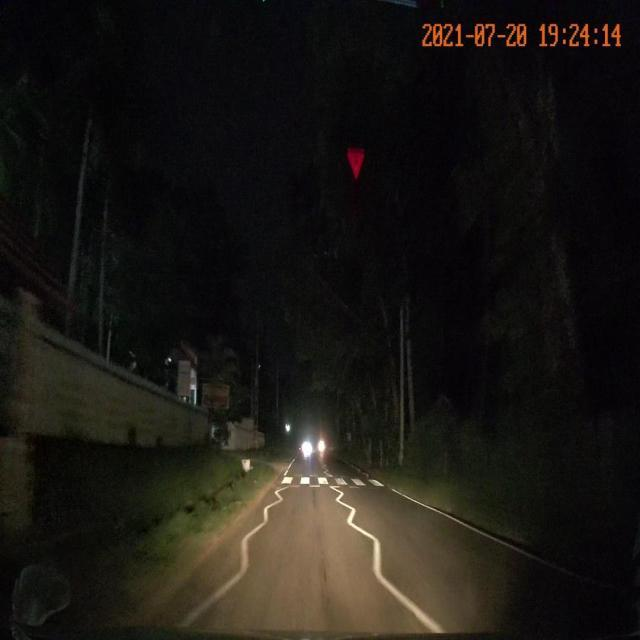Crosswalk: (276, 473, 391, 489)
